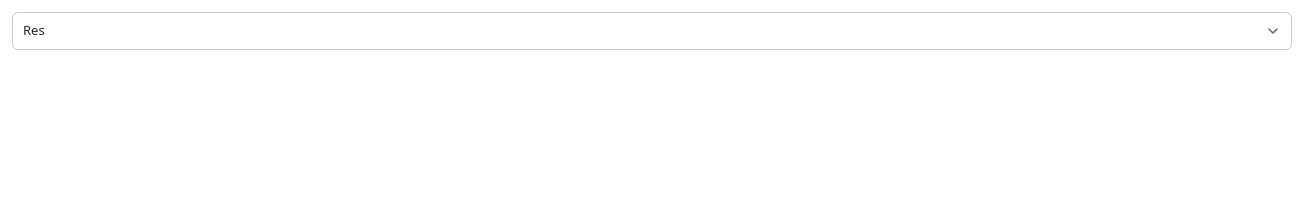
it: CustomSelect › opens a styled option menu and updates its selected value
Click the dropdown named "协议". click: (34,30)
box: top-left (12, 12), bottom-right (1292, 50)
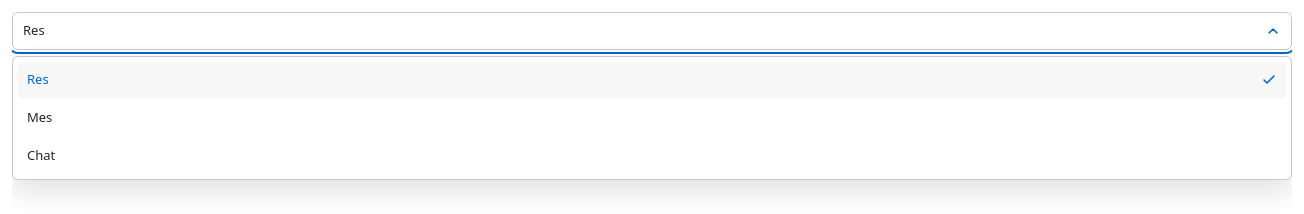
Expected: the list named "协议" is shown, top-left (12, 56), bottom-right (1292, 180)
Expected: the option "Chat" is shown
Click the option "Chat". click: (41,155)
box: top-left (18, 138), bottom-right (1286, 174)
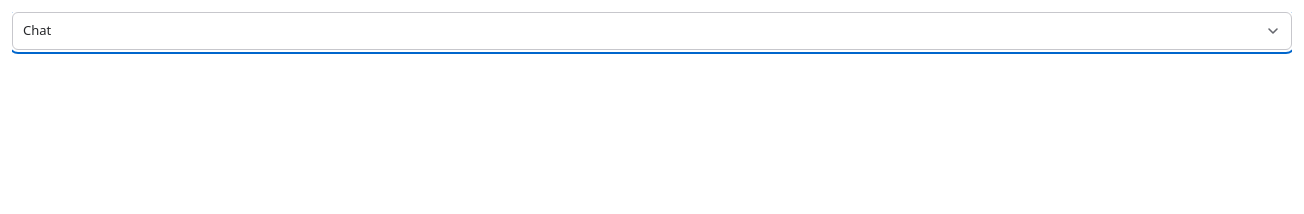
Expected: the dropdown named "协议" reads "Chat", top-left (12, 12), bottom-right (1292, 50)
Expected: the list "Res Mes Chat" is gone
